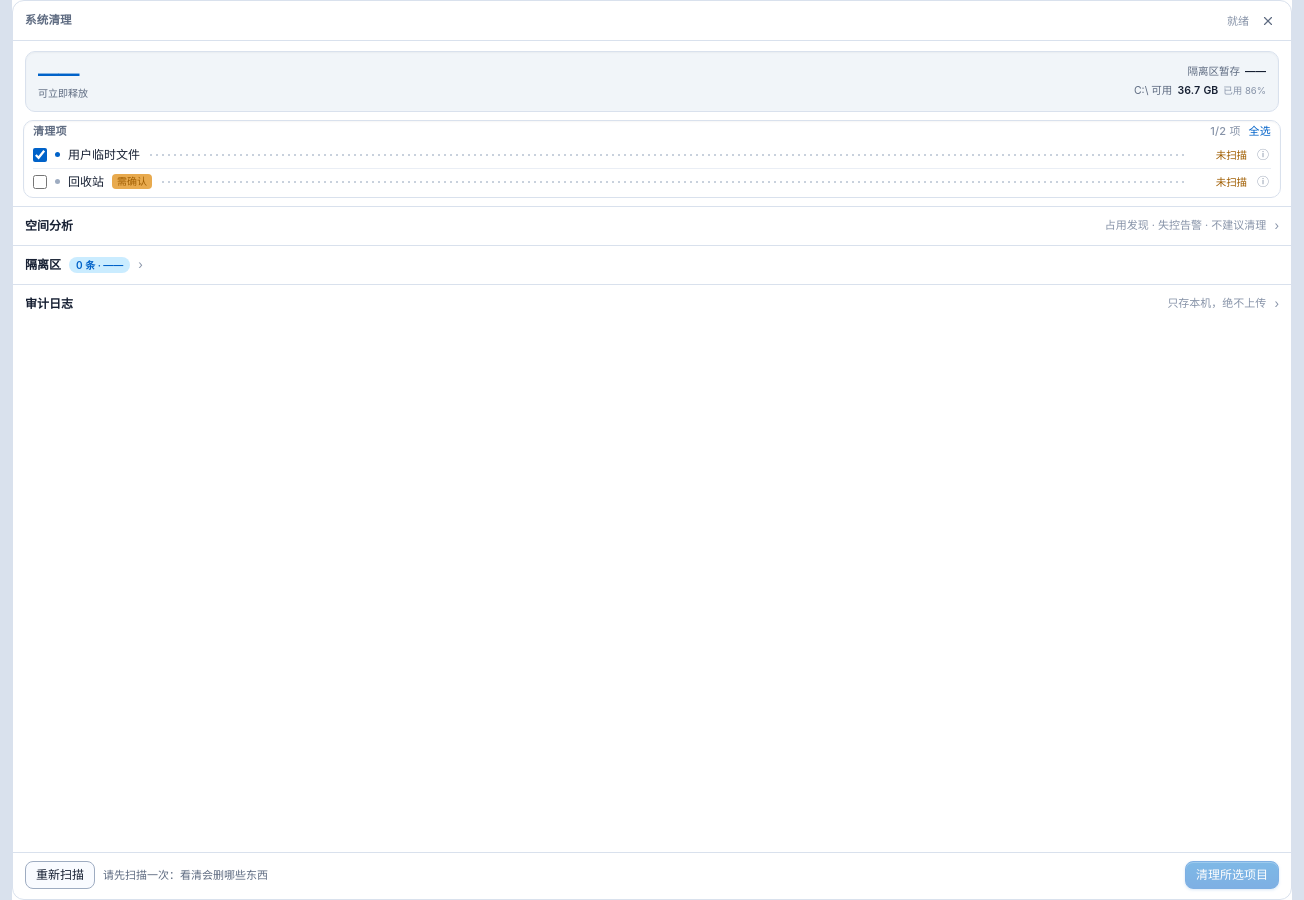
Test case: SystemCleanerTool › 占用发现：没有历史快照时明说「没有增量数据」，而不是显示 +0
The width and height of the screenshot is (1304, 900).
Step 1. Click the button "空间分析 占用发现 · 失控告警 · 不建议清理 ›" → click(49, 225), box [13, 206, 1291, 245]
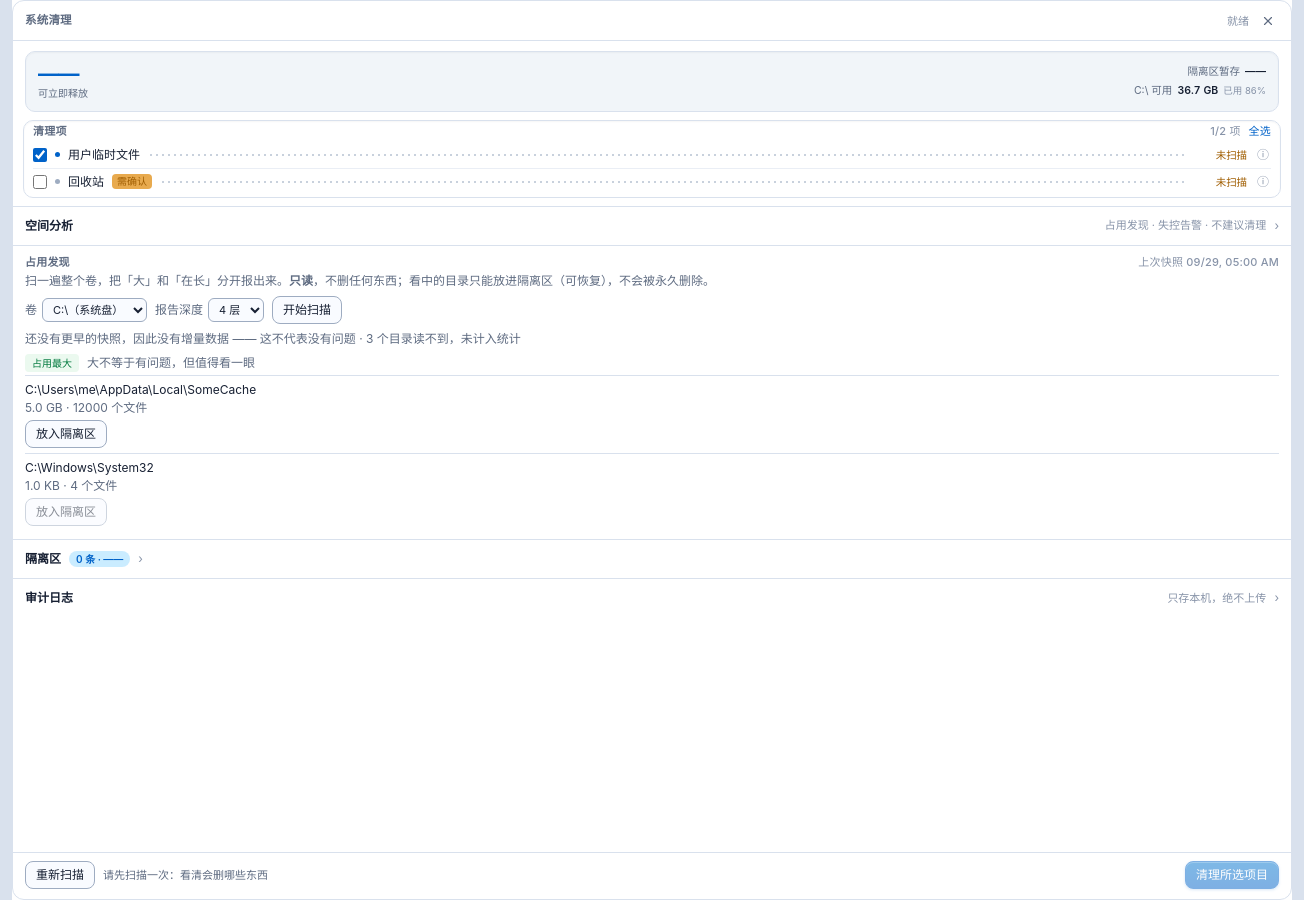
Expected: the text "还没有更早的快照，因此没有增量数据 —— 这不代表没有问题 · 3 个目录读不到，未计入统计" is shown, [25, 331, 521, 346]
Expected: the text "5.0 GB · 12000 个文件" is shown, [25, 400, 147, 415]
Expected: the button "放入隔离区" below "5.0 GB" is enabled, [25, 420, 107, 448]
